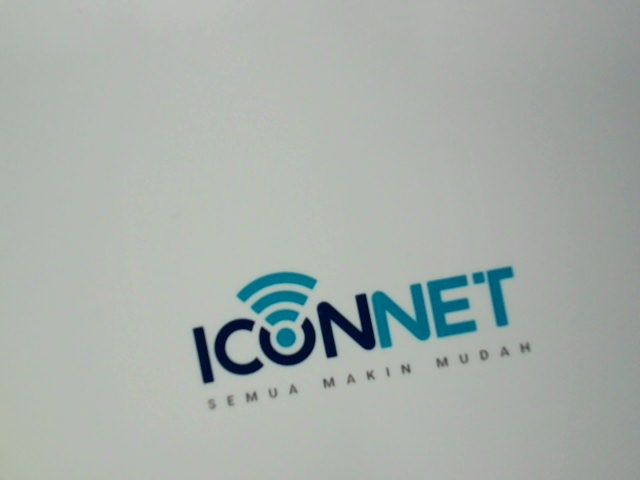BM_ICONNET: (175, 261, 582, 425)
